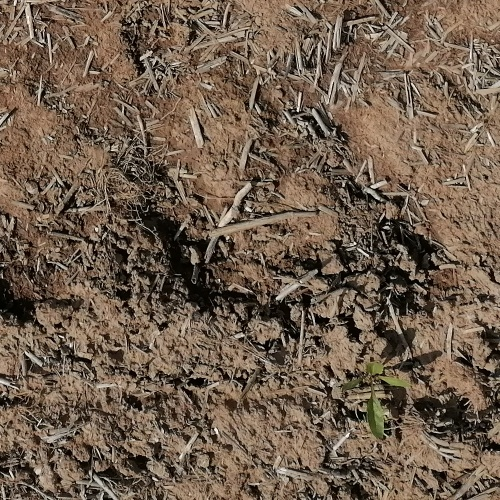beet: (342, 361, 409, 439)
